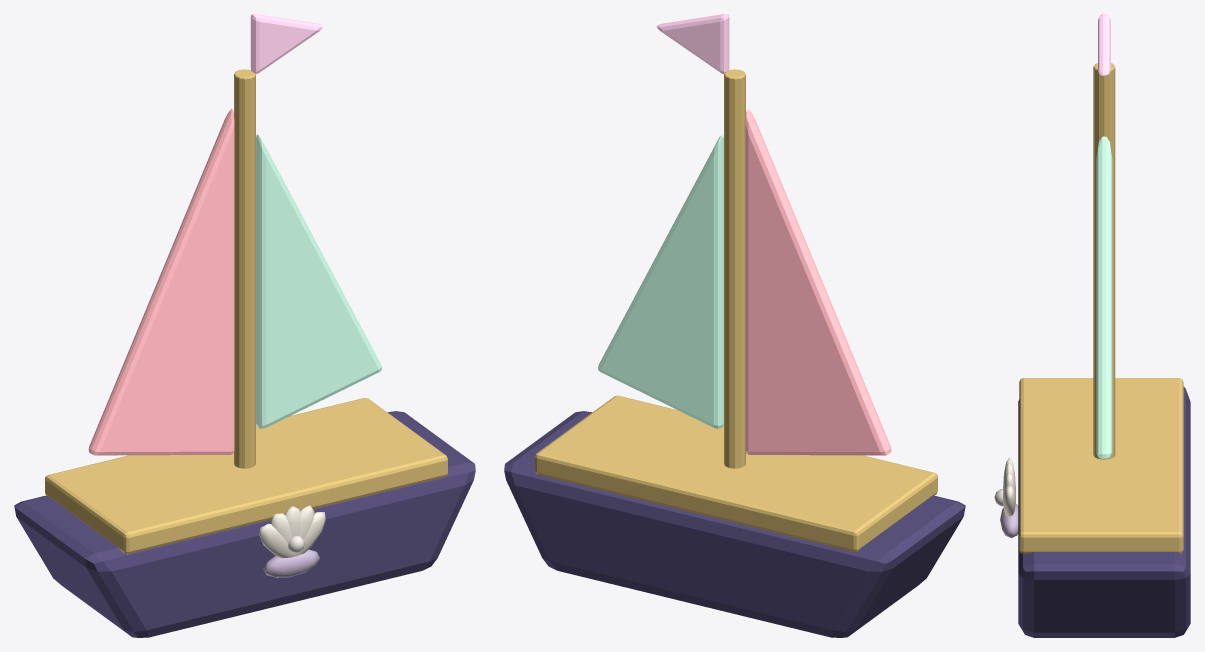
The model's file is pearl_toy_sailboat.glb.
The picture shows the model from 3 angles, left to right: view 1: azimuth 30°, elevation 25°; view 2: azimuth 150°, elevation 25°; view 3: azimuth 270°, elevation 25°; orthographic projection.
Visible parts, largest first — view 1: pearl_toy_sailboat.001; view 2: pearl_toy_sailboat.001; view 3: pearl_toy_sailboat.001.
Part boxes in pixels (x1=…): pearl_toy_sailboat.001: x1=14, y1=14, x2=475, y2=637; pearl_toy_sailboat.001: x1=504, y1=14, x2=965, y2=637; pearl_toy_sailboat.001: x1=994, y1=14, x2=1190, y2=637.
Size of the model in its own units: 4.48 by 6.16 by 1.96.
